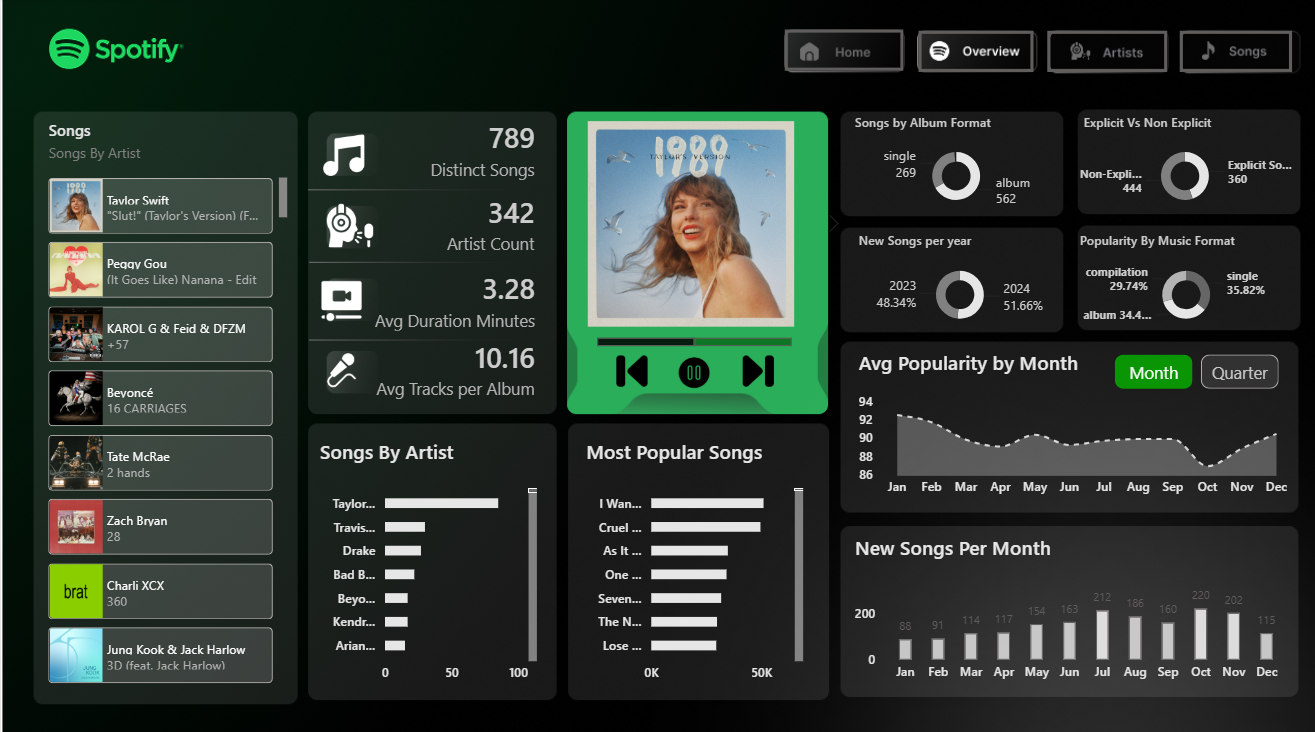

This screenshot's page, from the dashboard's own definition file:
{"tool":"powerbi","page":{"name":"Overview","canvas":[1280,720],"ordinal":1},"visuals":[{"type":"clusteredBarChart","title":"Songs By Artist","fields":{"Category":["Top-50-World.artist"],"Y":["_Measure.Distinct Songs"]},"box":[303.3,425.4,219.6,244.3],"z":0},{"type":"clusteredBarChart","title":"Most Popular Songs","fields":{"Category":["Top-50-World.song"],"Y":["Sum(Top-50-World.popularity)"]},"box":[559.9,425.4,219.6,244.3],"z":1000},{"type":"areaChart","fields":{"Category":["Top-50-World.Month"],"Y":["_Measure.Avg Popularity"]},"box":[823.3,340.3,426.8,150.9],"z":2000},{"type":"advancedSlicerVisual","fields":{"Values":["Slicer_Option.Slicer_Option"]},"box":[1070.3,340.3,168.8,43.9],"z":3000},{"type":"donutChart","title":"Songs by Album Format","fields":{"Category":["Top-50-World.album_type"],"Y":["_Measure.Distinct Songs"]},"box":[819.2,112.5,205.8,94.7],"z":4000},{"type":"donutChart","title":"Popularity By Music Format","fields":{"Category":["Top-50-World.album_type"],"Y":["_Measure.Avg Popularity"]},"box":[1036,226.4,215.4,94.7],"z":5000},{"type":"donutChart","title":"New Songs per year","fields":{"Category":["Top-50-World.year"],"Y":["_Measure.Distinct Songs"]},"box":[823.3,226.4,205.8,94.7],"z":6000},{"type":"donutChart","title":"Explicit Vs Non Explicit","fields":{"Y":["_Measure.Distinct Explicit Songs","_Measure.Distinct Non-Explicit Songs"]},"box":[1040.4,112,205.8,94.7],"z":7000},{"type":"columnChart","title":"New Songs Per Month","fields":{"Category":["Top-50-World.Month"],"Y":["_Measure.Distinct Songs"]},"box":[819.2,518.7,426.8,150.9],"z":8000},{"type":"cardVisual","title":"New Songs Per Month","fields":{"Data":["_Measure.Distinct Songs"]},"box":[269,98.8,275.8,96.1],"z":9000},{"type":"cardVisual","title":"New Songs Per Month","fields":{"Data":["_Measure.Distinct Artists"]},"box":[251.1,172.9,293.7,93.3],"z":10000},{"type":"cardVisual","title":"New Songs Per Month","fields":{"Data":["_Measure.Avg Tracks per Album"]},"box":[281.3,312.9,263.5,93.3],"z":11000},{"type":"cardVisual","title":"New Songs Per Month","fields":{"Data":["_Measure.Avg Duration Minutes"]},"box":[247,241.5,297.8,102.9],"z":12000},{"type":"image","box":[279.9,270.3,97.4,46.7],"z":13000},{"type":"image","box":[297.8,133.1,65.9,39.8],"z":14000},{"type":"image","box":[284,344.4,90.6,32.9],"z":15000},{"type":"image","box":[299.1,197.6,75.5,45.3],"z":16000},{"type":"advancedSlicerVisual","title":"Songs","fields":{"Values":["Top-50-World.song"]},"box":[41,118.2,240.1,551.3],"z":17000},{"type":"advancedSlicerVisual","title":"Songs","fields":{"Values":["Top-50-World.song"]},"box":[513.2,113.9,306,211.3],"z":18000},{"type":"hundredPercentStackedBarChart","fields":{"Y":["Avg(Top-50-World.popularity)","_Measure.Avg Popularity"]},"box":[570.8,293.7,197.6,74.1],"z":19000},{"type":"image","box":[559.9,344.4,98.8,34.3],"z":20000},{"type":"image","box":[620.2,340.3,98,45],"z":21000},{"type":"image","box":[682,344.4,98,34],"z":22000},{"type":"shape","box":[545.3,106.2,255.2,299.1],"z":23000},{"type":"actionButton","box":[760.1,32.6,109.8,39.8],"z":24000},{"type":"actionButton","box":[884.3,32.6,112.2,39.8],"z":25000},{"type":"actionButton","box":[1011,32.6,114.6,39.8],"z":26000},{"type":"actionButton","box":[1137.6,32.9,108.4,39.8],"z":27000}]}

Visuals, with their boxes in screenshot pixels (x1, y1, x2, y2), scaled from the page's 1280x720 canvas onto the 1315x732 screenshot:
"Songs By Artist" clusteredBarChart: 312,432,537,681
"Most Popular Songs" clusteredBarChart: 575,432,801,681
areaChart - Top-50-World.Month x _Measure.Avg Popularity: 846,346,1284,499
advancedSlicerVisual - Slicer_Option.Slicer_Option: 1100,346,1273,391
"Songs by Album Format" donutChart: 842,114,1053,211
"Popularity By Music Format" donutChart: 1064,230,1286,326
"New Songs per year" donutChart: 846,230,1057,326
"Explicit Vs Non Explicit" donutChart: 1069,114,1280,210
"New Songs Per Month" columnChart: 842,527,1280,681
"New Songs Per Month" cardVisual: 276,100,560,198
"New Songs Per Month" cardVisual: 258,176,560,271
"New Songs Per Month" cardVisual: 289,318,560,413
"New Songs Per Month" cardVisual: 254,246,560,350
image: 288,275,388,322
image: 306,135,374,176
image: 292,350,385,384
image: 307,201,385,247
"Songs" advancedSlicerVisual: 42,120,289,681
"Songs" advancedSlicerVisual: 527,116,842,331
hundredPercentStackedBarChart - Avg(Top-50-World.popularity) x _Measure.Avg Popularity: 586,299,789,374
image: 575,350,677,385
image: 637,346,738,392
image: 701,350,801,385
shape: 560,108,822,412
actionButton: 781,33,894,74
actionButton: 908,33,1024,74
actionButton: 1039,33,1156,74
actionButton: 1169,33,1280,74
